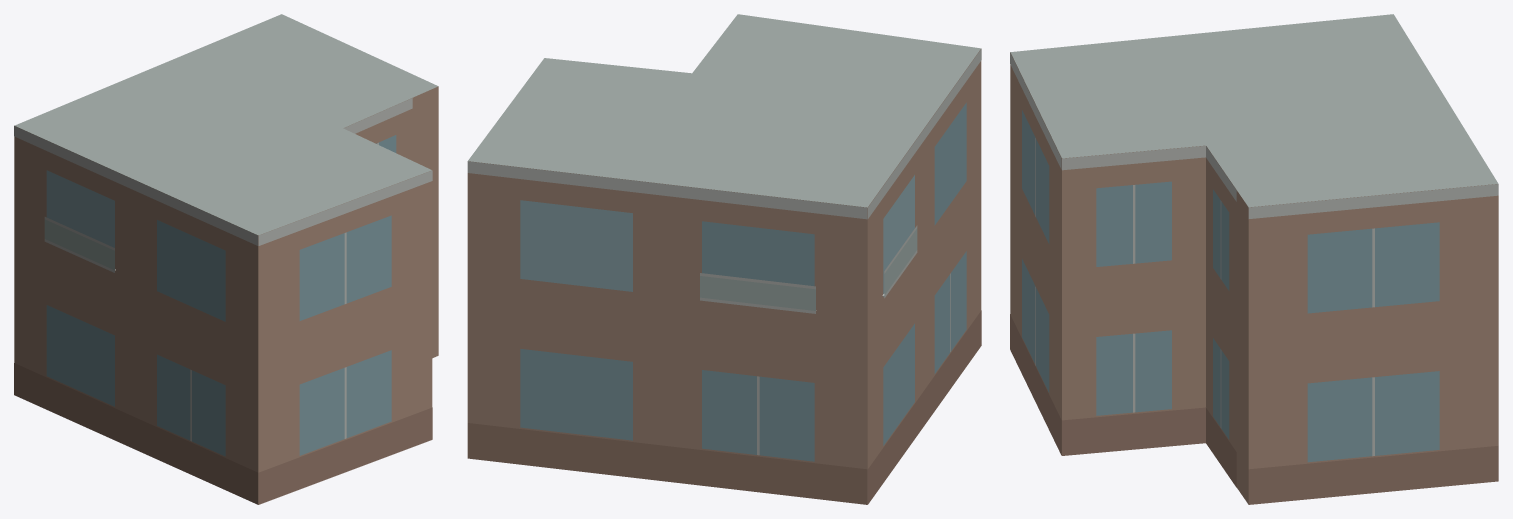
File: survey-upis-32564164.glb
3 renders of one model, left to right at view 1: azimuth 30°, elevation 25°; view 2: azimuth 150°, elevation 25°; view 3: azimuth 270°, elevation 25°, orthographic. The views are drawn at different scales.
Visible parts, largest first — view 1: survey-upis-32564164.tmp; view 2: survey-upis-32564164.tmp; view 3: survey-upis-32564164.tmp.
Boxes of the visible parts, box(x1,y1,x2,y2) form: survey-upis-32564164.tmp: box(14, 14, 438, 504); survey-upis-32564164.tmp: box(467, 14, 981, 504); survey-upis-32564164.tmp: box(1010, 14, 1498, 504).
Size of the model in its own units: 8.51 by 6.1 by 9.08.
